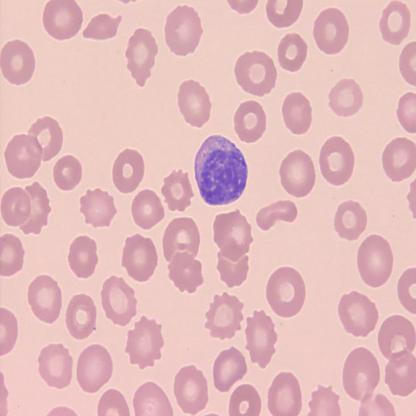Metamyelocyte: (193, 132, 250, 209)
